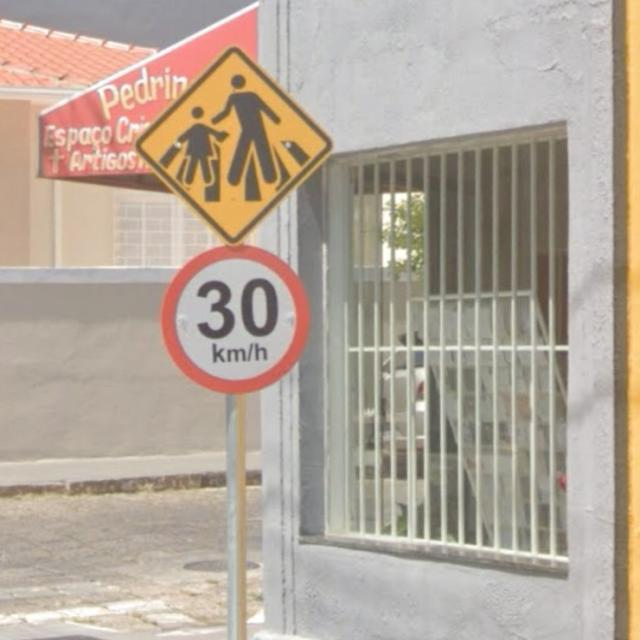pedestrian crossing: (118, 33, 347, 238)
speed limit: (138, 242, 320, 402)
